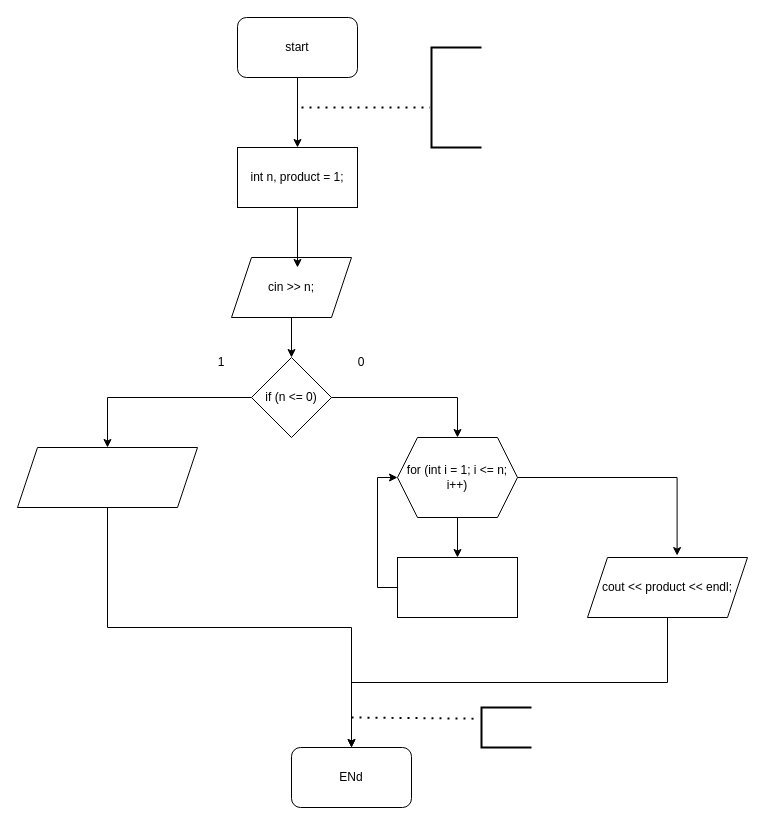
The diagram is 765 pixels wide and 825 high, and some of its shapes have lost their labels. The box of each missing label's shape, as (x1, y1, x2, y2) in pixels:
#include <iostream> using namespace std; int main (): (430, 46, 482, 148)
cout << "error" << endl;: (16, 446, 198, 508)
product *= i;: (396, 556, 518, 618)
return 0;: (480, 706, 532, 748)
